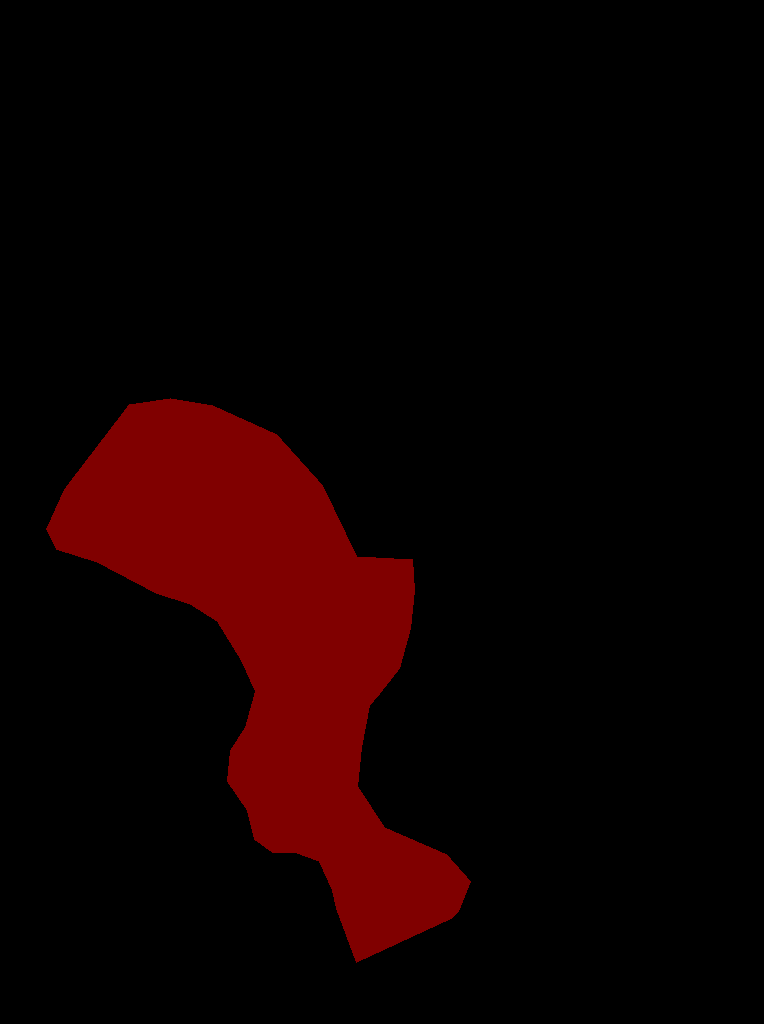fire: (46, 398, 470, 962)
